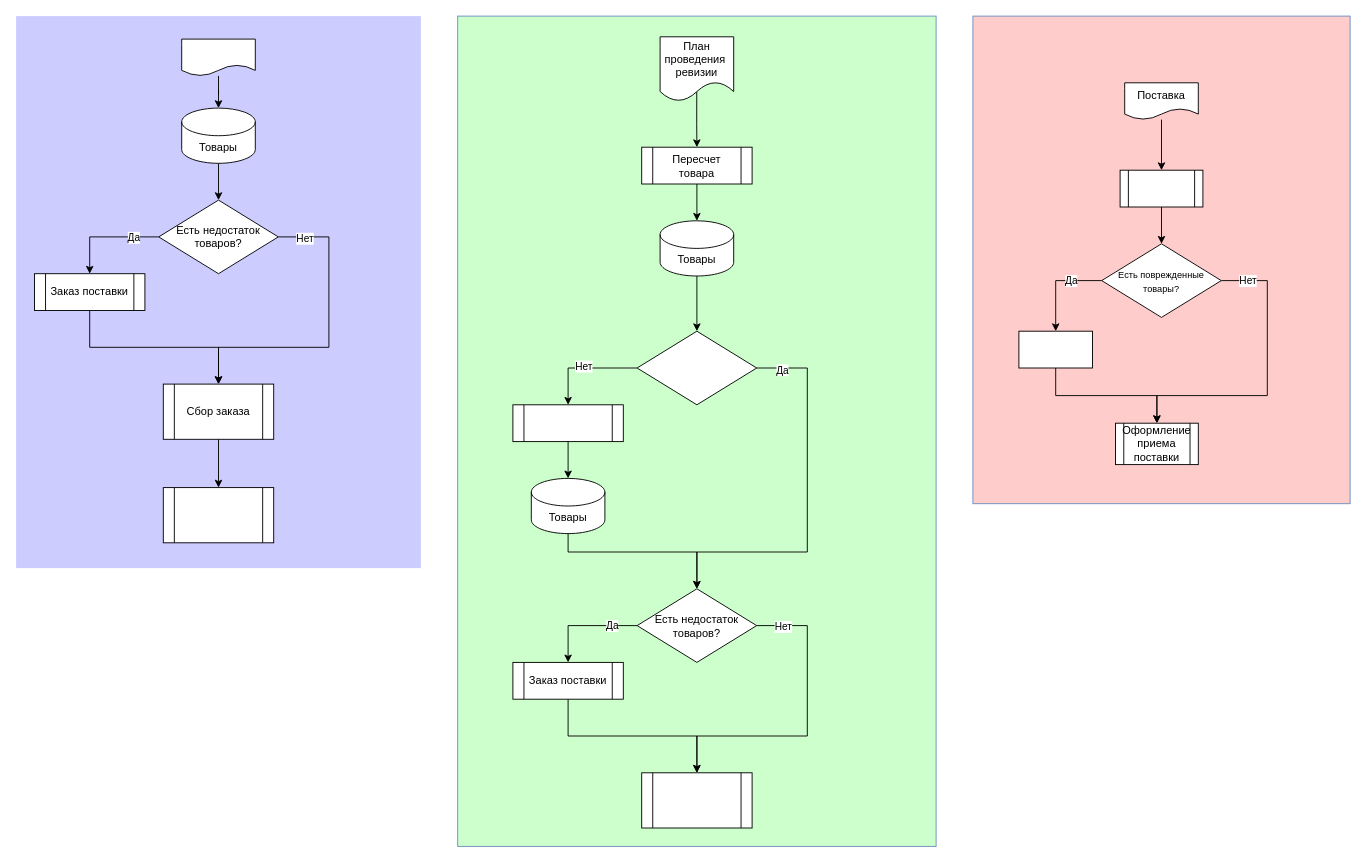
Some shapes in this 1366 by 863 pixel diagram are drawn without their labels. Each missing label, with the centre of its shape:
"Возврат поврежденных товаров" goes at (x=1055, y=349).
"Выдача заказа" goes at (x=218, y=515).
"Заказ" goes at (x=218, y=57).
"Корректировка остатков" goes at (x=567, y=423).
"Остатки товара совпадают?" goes at (x=696, y=367).
"Оформление ревизии" goes at (x=696, y=800).
"Прием товаров" goes at (x=1161, y=188).
